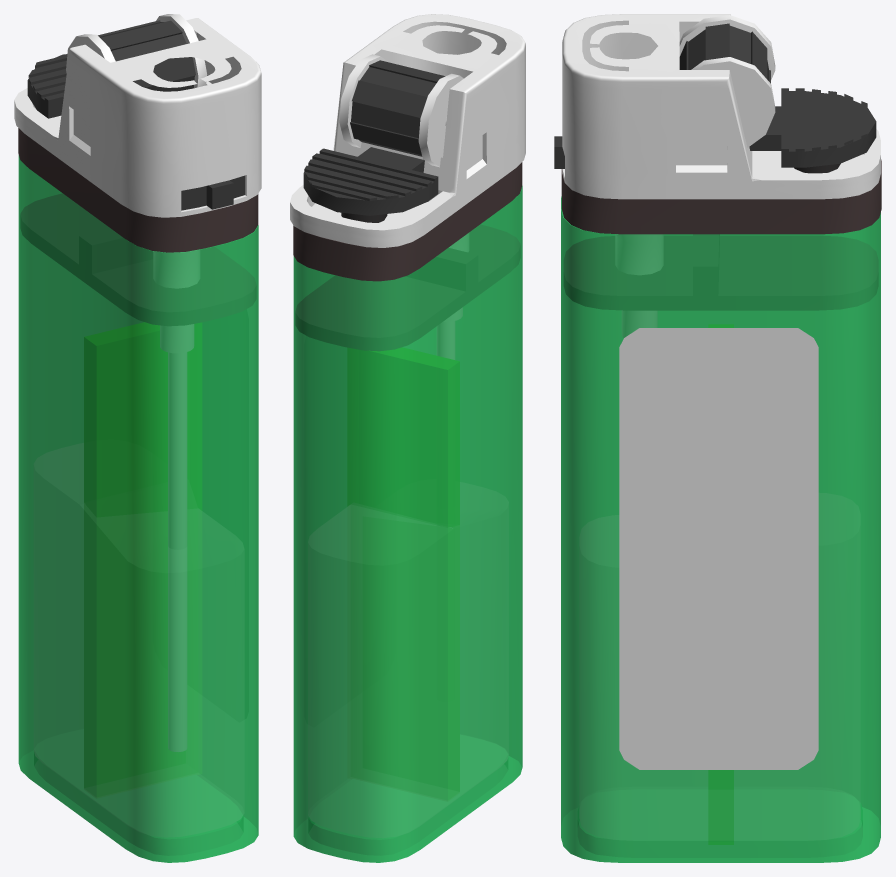
Rendered from lighter.glb.
The picture shows the model from 3 angles, left to right: view 1: azimuth 30°, elevation 25°; view 2: azimuth 150°, elevation 25°; view 3: azimuth 270°, elevation 25°; orthographic projection. The views are drawn at different scales.
Parts seen in each view (by area): view 1: Object_4, Object_8, Object_32, Object_36, Object_26; view 2: Object_4, Object_8, Object_32, Object_36; view 3: Object_4, Object_8, Object_36, Object_32.
Boxes of the visible parts, box(x1,y1,x2,y2) form: Object_4: box(18, 128, 258, 862); Object_8: box(14, 18, 261, 217); Object_32: box(66, 14, 207, 91); Object_36: box(27, 54, 67, 118); Object_26: box(181, 175, 244, 210); Object_4: box(293, 162, 522, 862); Object_8: box(290, 14, 525, 247); Object_32: box(339, 54, 463, 167); Object_36: box(303, 147, 438, 222); Object_4: box(561, 159, 881, 862); Object_8: box(562, 14, 880, 199); Object_36: box(749, 88, 876, 173); Object_32: box(679, 15, 775, 147).
Size of the model in its own units: 0.0346 by 0.1959 by 0.0732.
